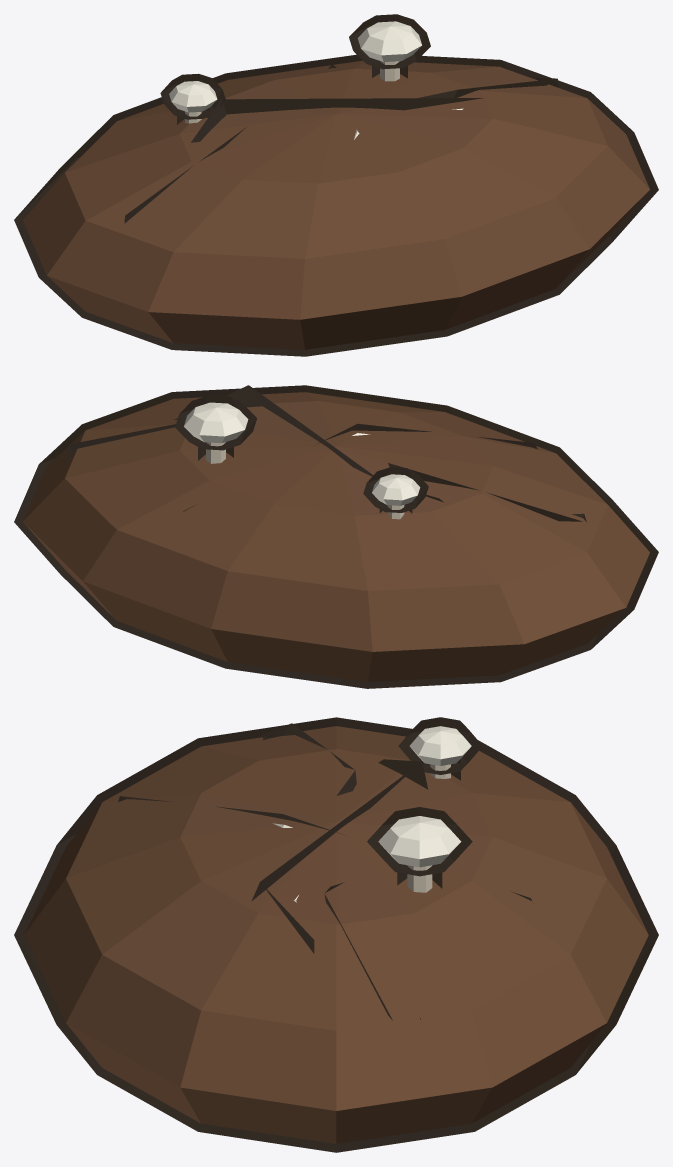
The model's file is mycelium_bed.glb.
3 views of the same model, one above another, from view 1: azimuth 30°, elevation 25°; view 2: azimuth 150°, elevation 25°; view 3: azimuth 270°, elevation 25° (orthographic). The views are drawn at different scales.
Visible parts, largest first — view 1: OBJ_mycelium_bed; view 2: OBJ_mycelium_bed; view 3: OBJ_mycelium_bed.
Part boxes in pixels (x1=…): OBJ_mycelium_bed: x1=14, y1=14, x2=658, y2=356; OBJ_mycelium_bed: x1=14, y1=385, x2=658, y2=688; OBJ_mycelium_bed: x1=14, y1=717, x2=658, y2=1152.
Bounding box in the file's own units: 0.8222 × 0.3112 × 0.6195.
